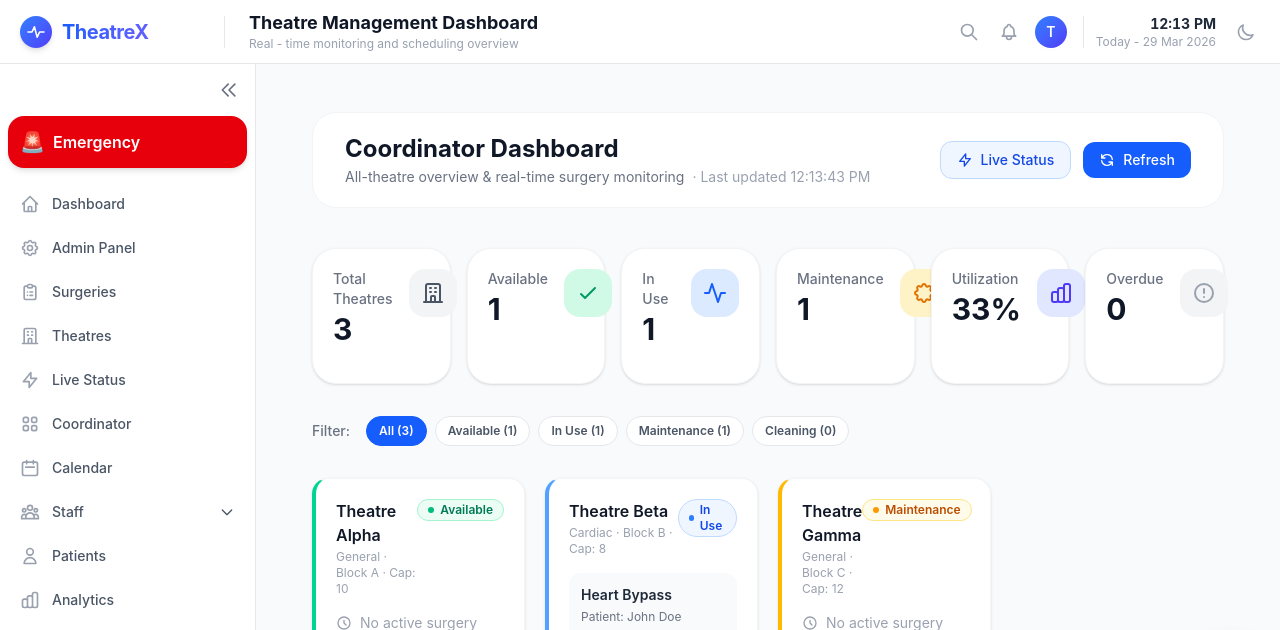
it: CoordinatorDashboard Page Tests - M6 Day 12 › Filter Interactions › should show all theatres again when All filter is clicked
Expected: the heading "Theatre Alpha" is shown, [336, 501, 396, 545]
Click the button "Available (1)".
click(483, 431)  # box [435, 416, 530, 446]
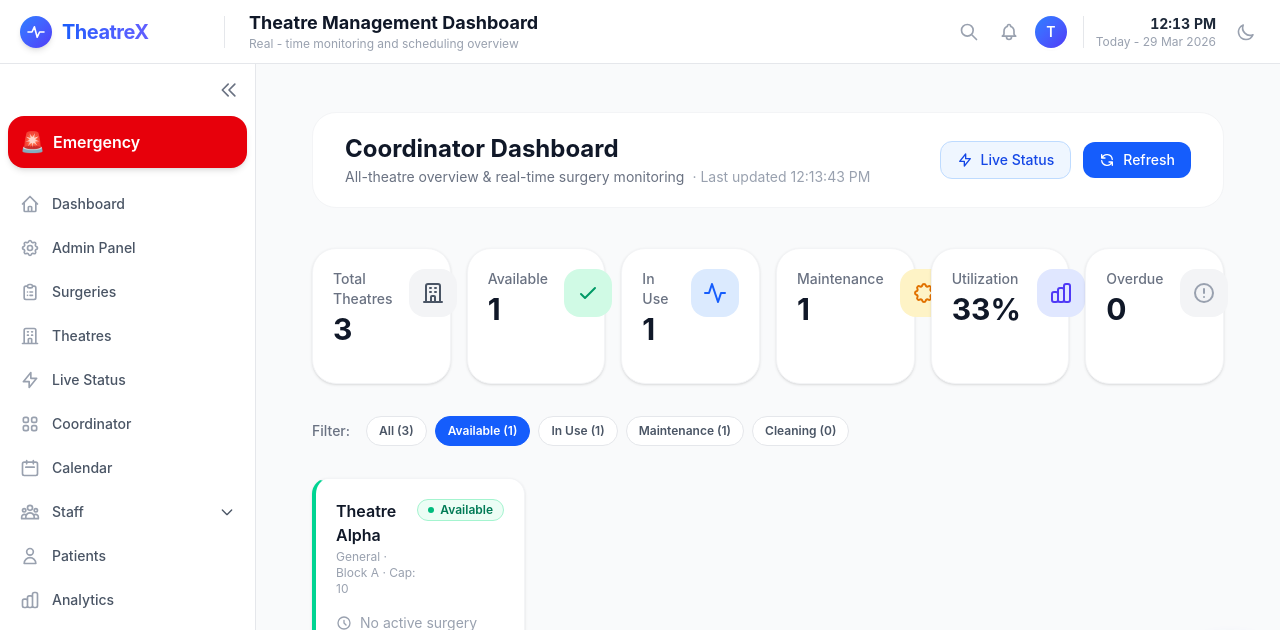
Click the button "All (3)".
click(396, 431)  # box [366, 416, 427, 446]
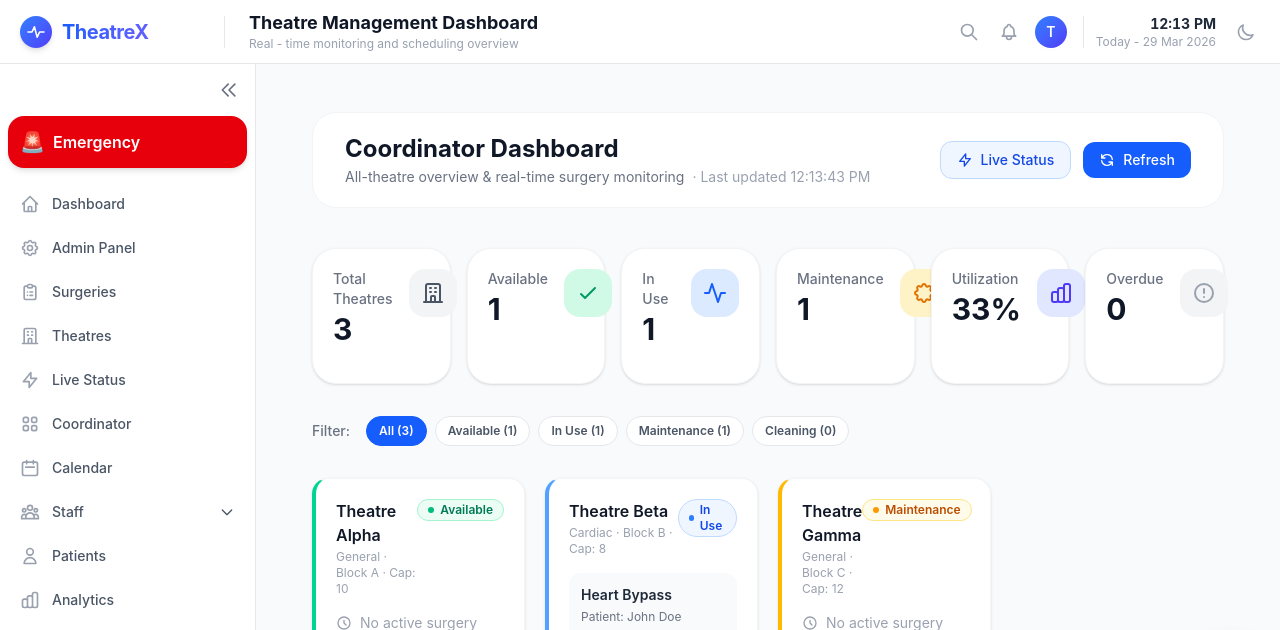
Expected: the heading "Theatre Alpha" is shown, [336, 501, 396, 545]
Expected: the heading "Theatre Beta" is shown, [569, 499, 678, 523]
Expected: the heading "Theatre Gamma" is shown, [802, 499, 862, 547]
